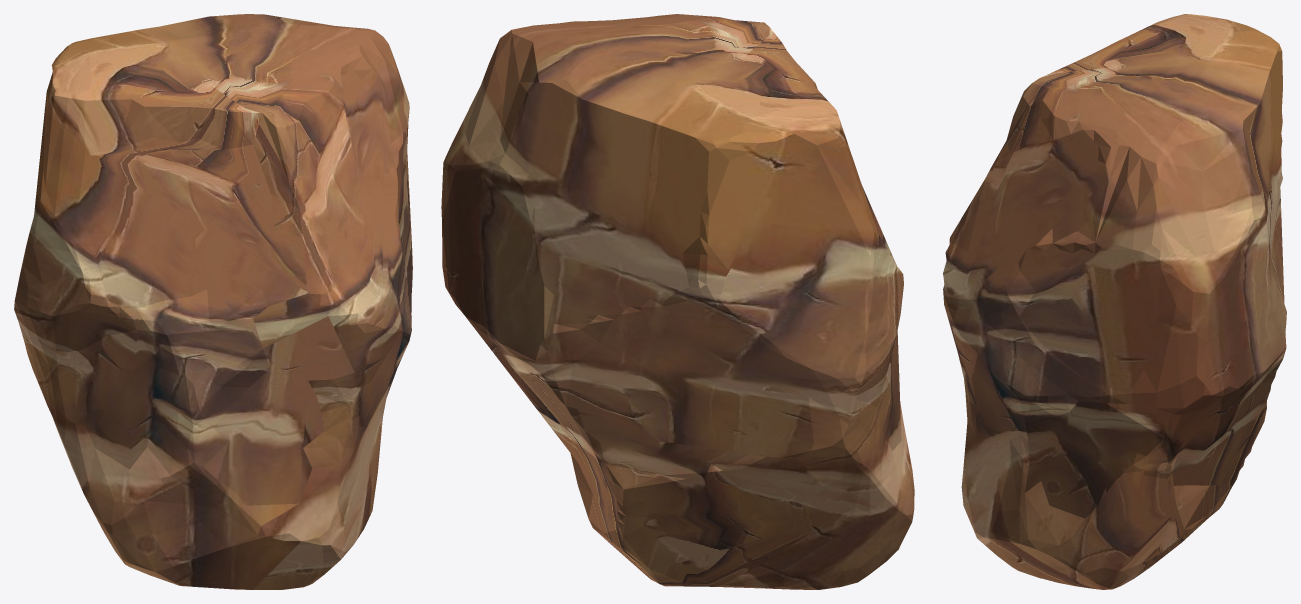
Rendered from platform01.fbx.
3 views of the same model, side by side, from view 1: azimuth 30°, elevation 25°; view 2: azimuth 150°, elevation 25°; view 3: azimuth 270°, elevation 25° (orthographic). The views are drawn at different scales.
Visible parts, largest first — view 1: platform01; view 2: platform01; view 3: platform01.
Part boxes in pixels (<box>): platform01: <box>14,14,412,589</box>; platform01: <box>441,14,914,589</box>; platform01: <box>943,14,1286,589</box>.
Size of the model in its own units: 6.84 by 5.35 by 8.47.
